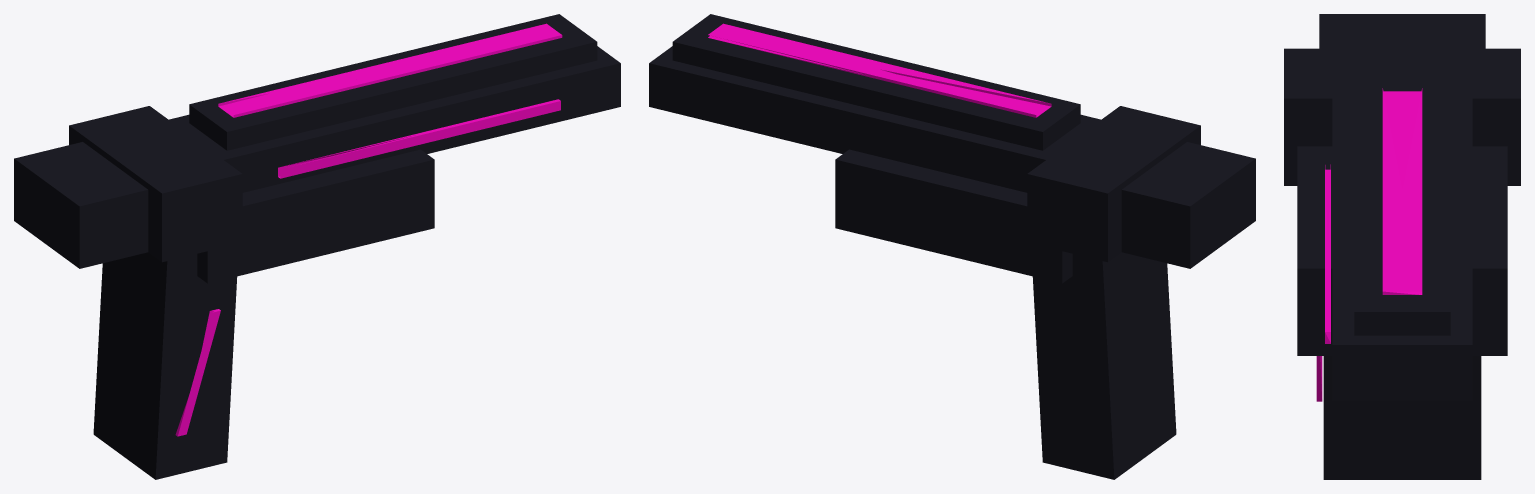
The model's file is ultracraft_revolver.obj.
The picture shows the model from 3 angles, left to right: view 1: azimuth 30°, elevation 25°; view 2: azimuth 150°, elevation 25°; view 3: azimuth 270°, elevation 25°; orthographic projection. The views are drawn at different scales.
Parts seen in each view (by area): view 1: UltracraftRevolver; view 2: UltracraftRevolver; view 3: UltracraftRevolver.
Part boxes in pixels (x1,y1,x2,y2): UltracraftRevolver: [14, 14, 620, 479]; UltracraftRevolver: [649, 14, 1255, 479]; UltracraftRevolver: [1284, 14, 1520, 479].
Size of the model in its own units: 1.83 by 1.03 by 0.54.
